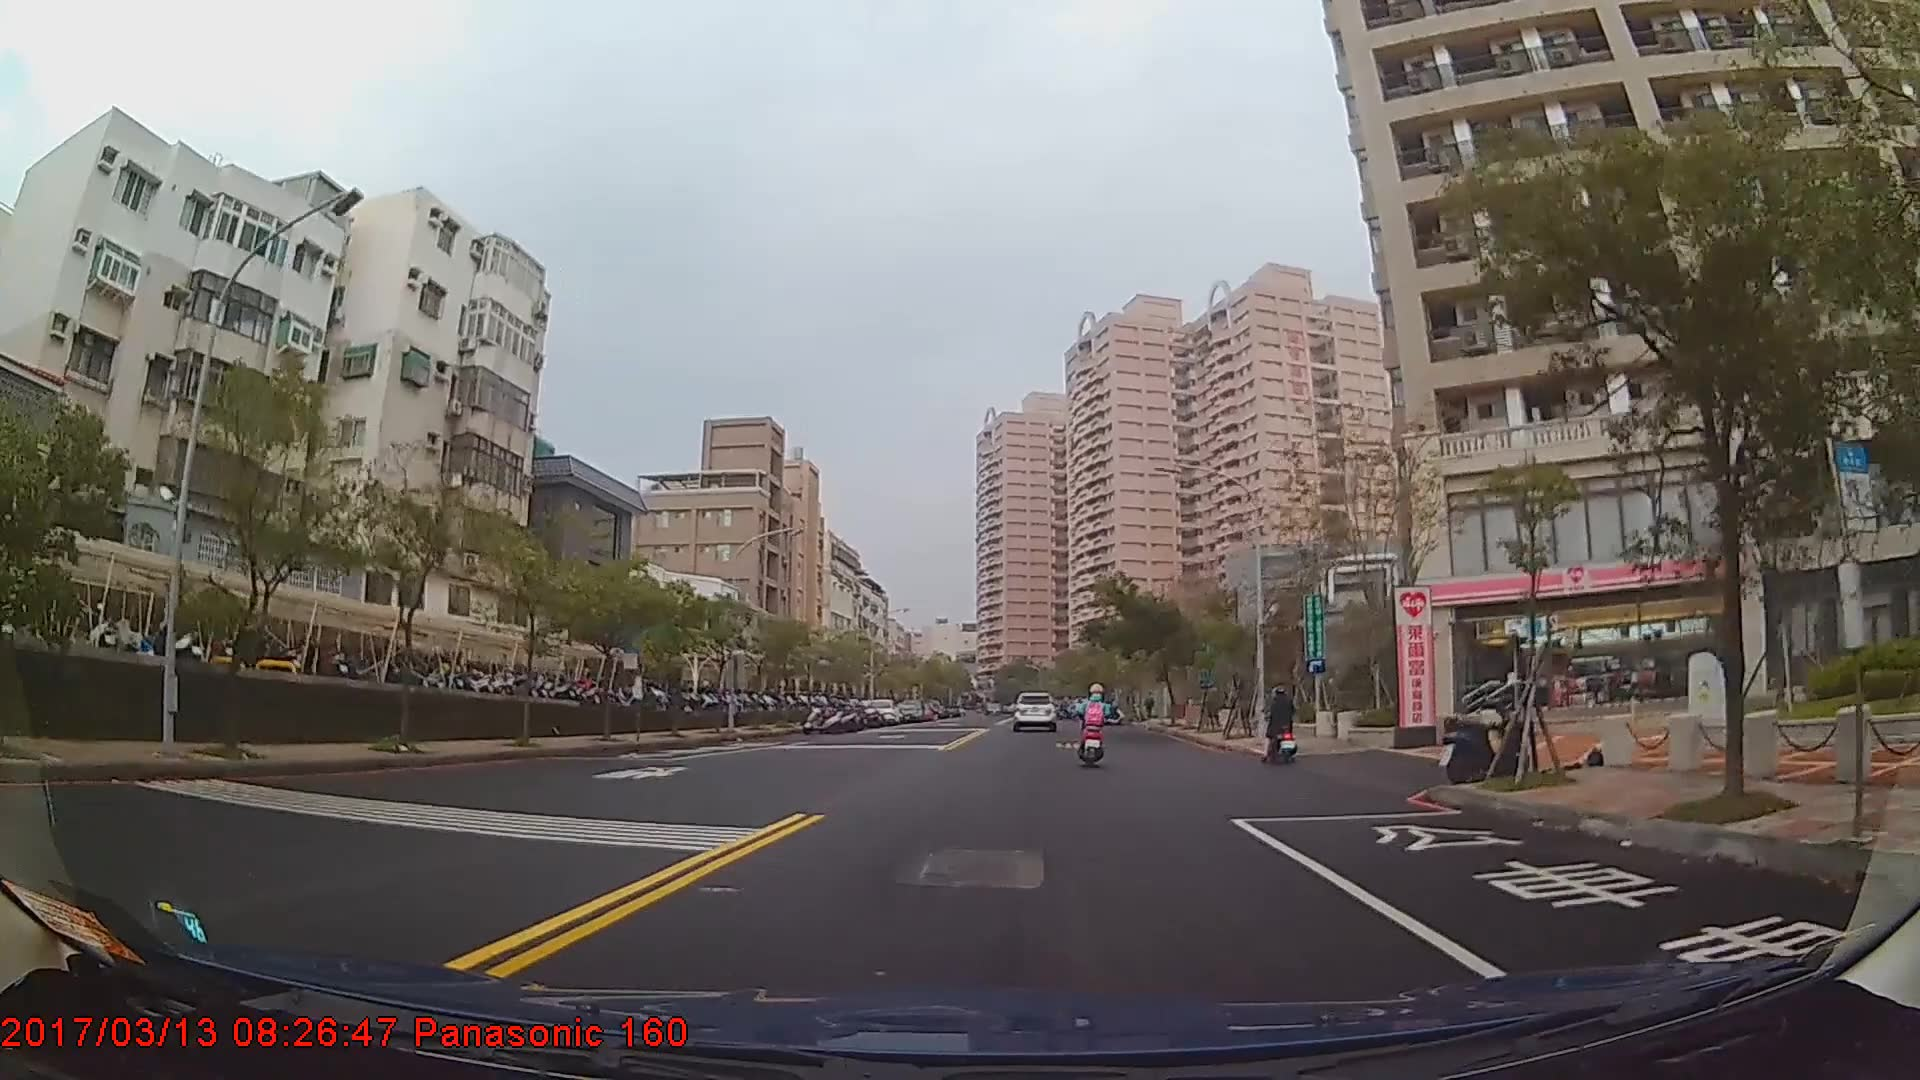rider: (1074, 683, 1114, 766), (1261, 687, 1301, 765)
vehicle: (1008, 690, 1059, 733), (862, 696, 897, 723)
